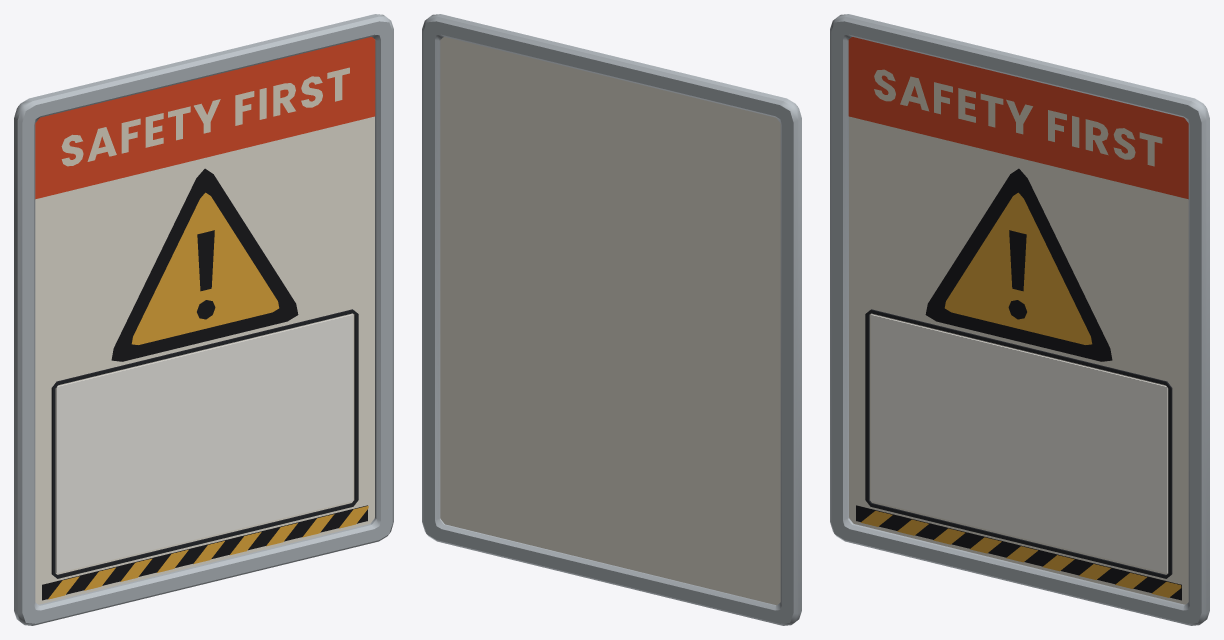
The model's file is Lobby_SafetyPoster.fbx.
3 renders of one model, left to right at view 1: azimuth 30°, elevation 25°; view 2: azimuth 150°, elevation 25°; view 3: azimuth 330°, elevation 25°, orthographic.
Visible parts, largest first — view 1: Paper, Screen, Frame, HeaderBand, Caution, Black, Rule, HeaderText; view 2: Paper, Frame; view 3: Paper, Screen, Frame, HeaderBand, Caution, Black, Rule, HeaderText.
Boxes of the visible parts, x1,y1,x2,y2 form: Paper: (35, 116, 374, 604); Screen: (56, 314, 352, 573); Frame: (14, 14, 393, 625); HeaderBand: (35, 37, 375, 199); Caution: (48, 192, 368, 599); Black: (42, 168, 367, 600); Rule: (51, 309, 358, 578); HeaderText: (61, 67, 349, 166); Paper: (440, 37, 780, 605); Frame: (422, 14, 801, 625); Paper: (849, 116, 1188, 604); Screen: (871, 314, 1167, 573); Frame: (830, 14, 1209, 625); HeaderBand: (848, 37, 1188, 199); Caution: (861, 192, 1181, 597); Black: (856, 168, 1181, 600); Rule: (865, 309, 1172, 578); HeaderText: (874, 69, 1162, 166).
Bounding box in the file's own units: 300 × 400 × 10.
